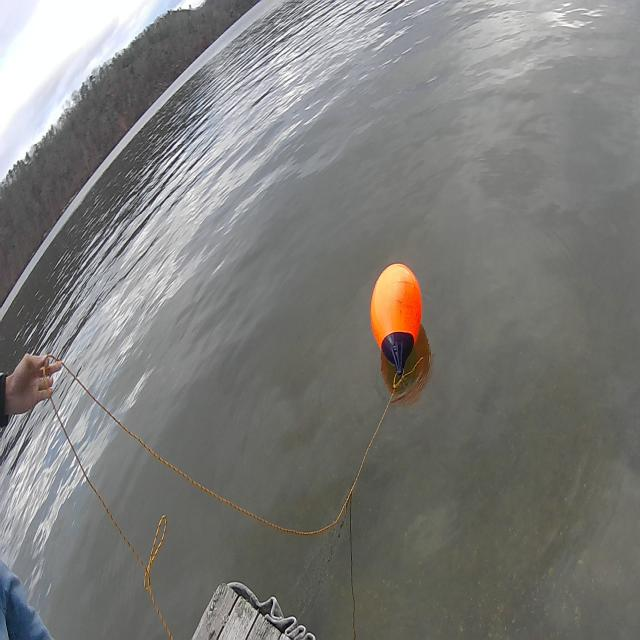Buoy: (370, 262, 422, 344)
